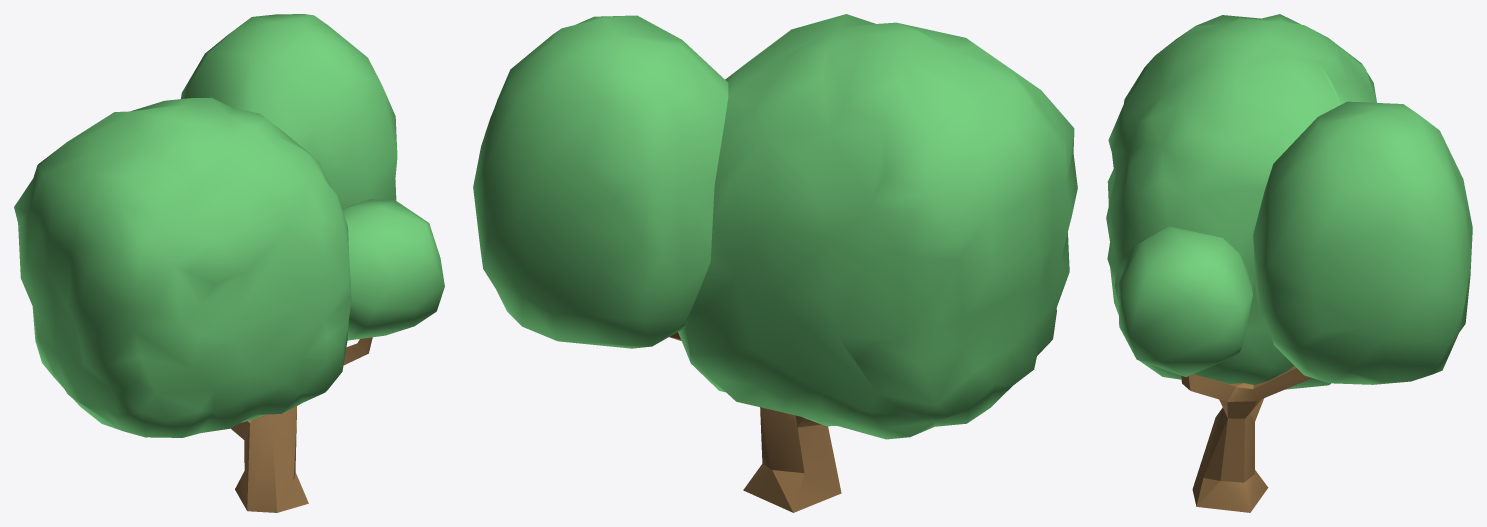
The model's file is oak1.glb.
The picture shows the model from 3 angles, left to right: view 1: azimuth 30°, elevation 25°; view 2: azimuth 150°, elevation 25°; view 3: azimuth 270°, elevation 25°; orthographic projection. The views are drawn at different scales.
Visible parts, largest first — view 1: oak_leaves_1, oak_trunk_1; view 2: oak_leaves_1, oak_trunk_1; view 3: oak_leaves_1, oak_trunk_1.
Part boxes in pixels (box(x1,y1,x2,y2)): oak_leaves_1: box(14, 14, 444, 437); oak_trunk_1: box(231, 337, 372, 512); oak_leaves_1: box(473, 14, 1077, 439); oak_trunk_1: box(669, 332, 841, 512); oak_leaves_1: box(1106, 14, 1472, 389); oak_trunk_1: box(1181, 366, 1312, 512).
Size of the model in its own units: 11.44 by 11.67 by 9.06.
